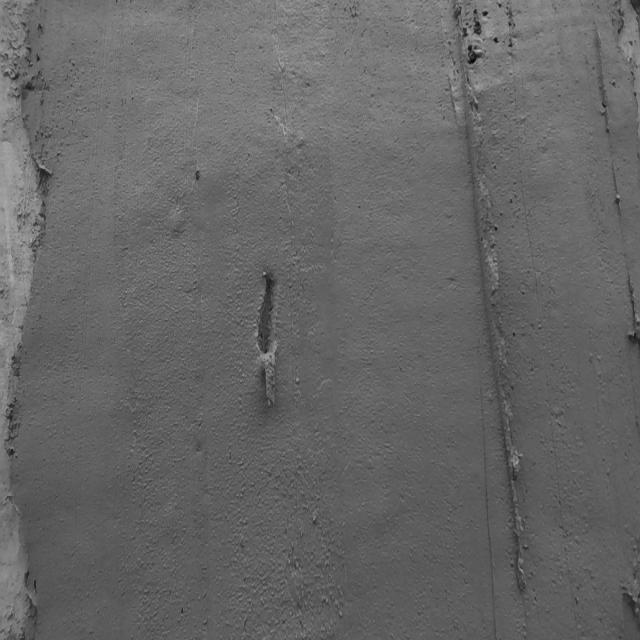trowels marks: (460, 80, 532, 589), (588, 22, 622, 226)
